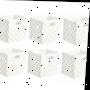cube: (31, 14, 64, 45), (0, 46, 30, 78), (31, 49, 63, 78), (0, 14, 30, 44), (64, 16, 89, 46), (64, 49, 88, 78)
